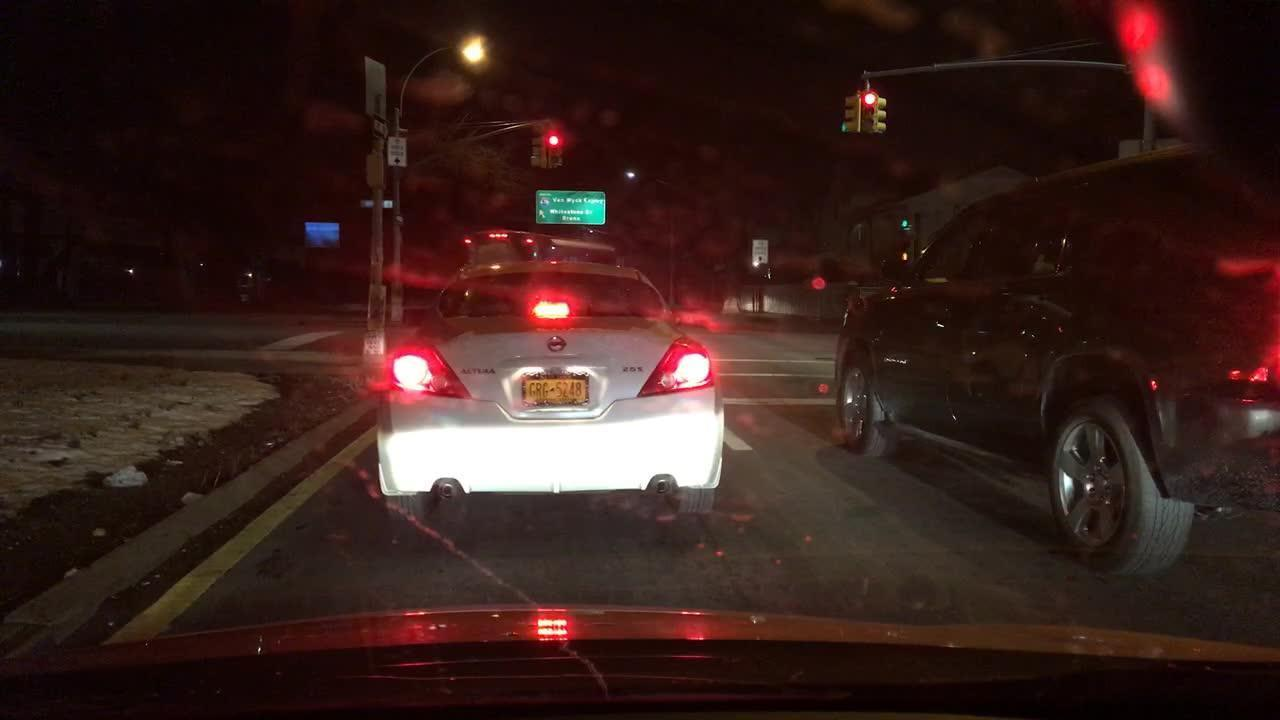Nissan: (539, 329, 577, 363)
